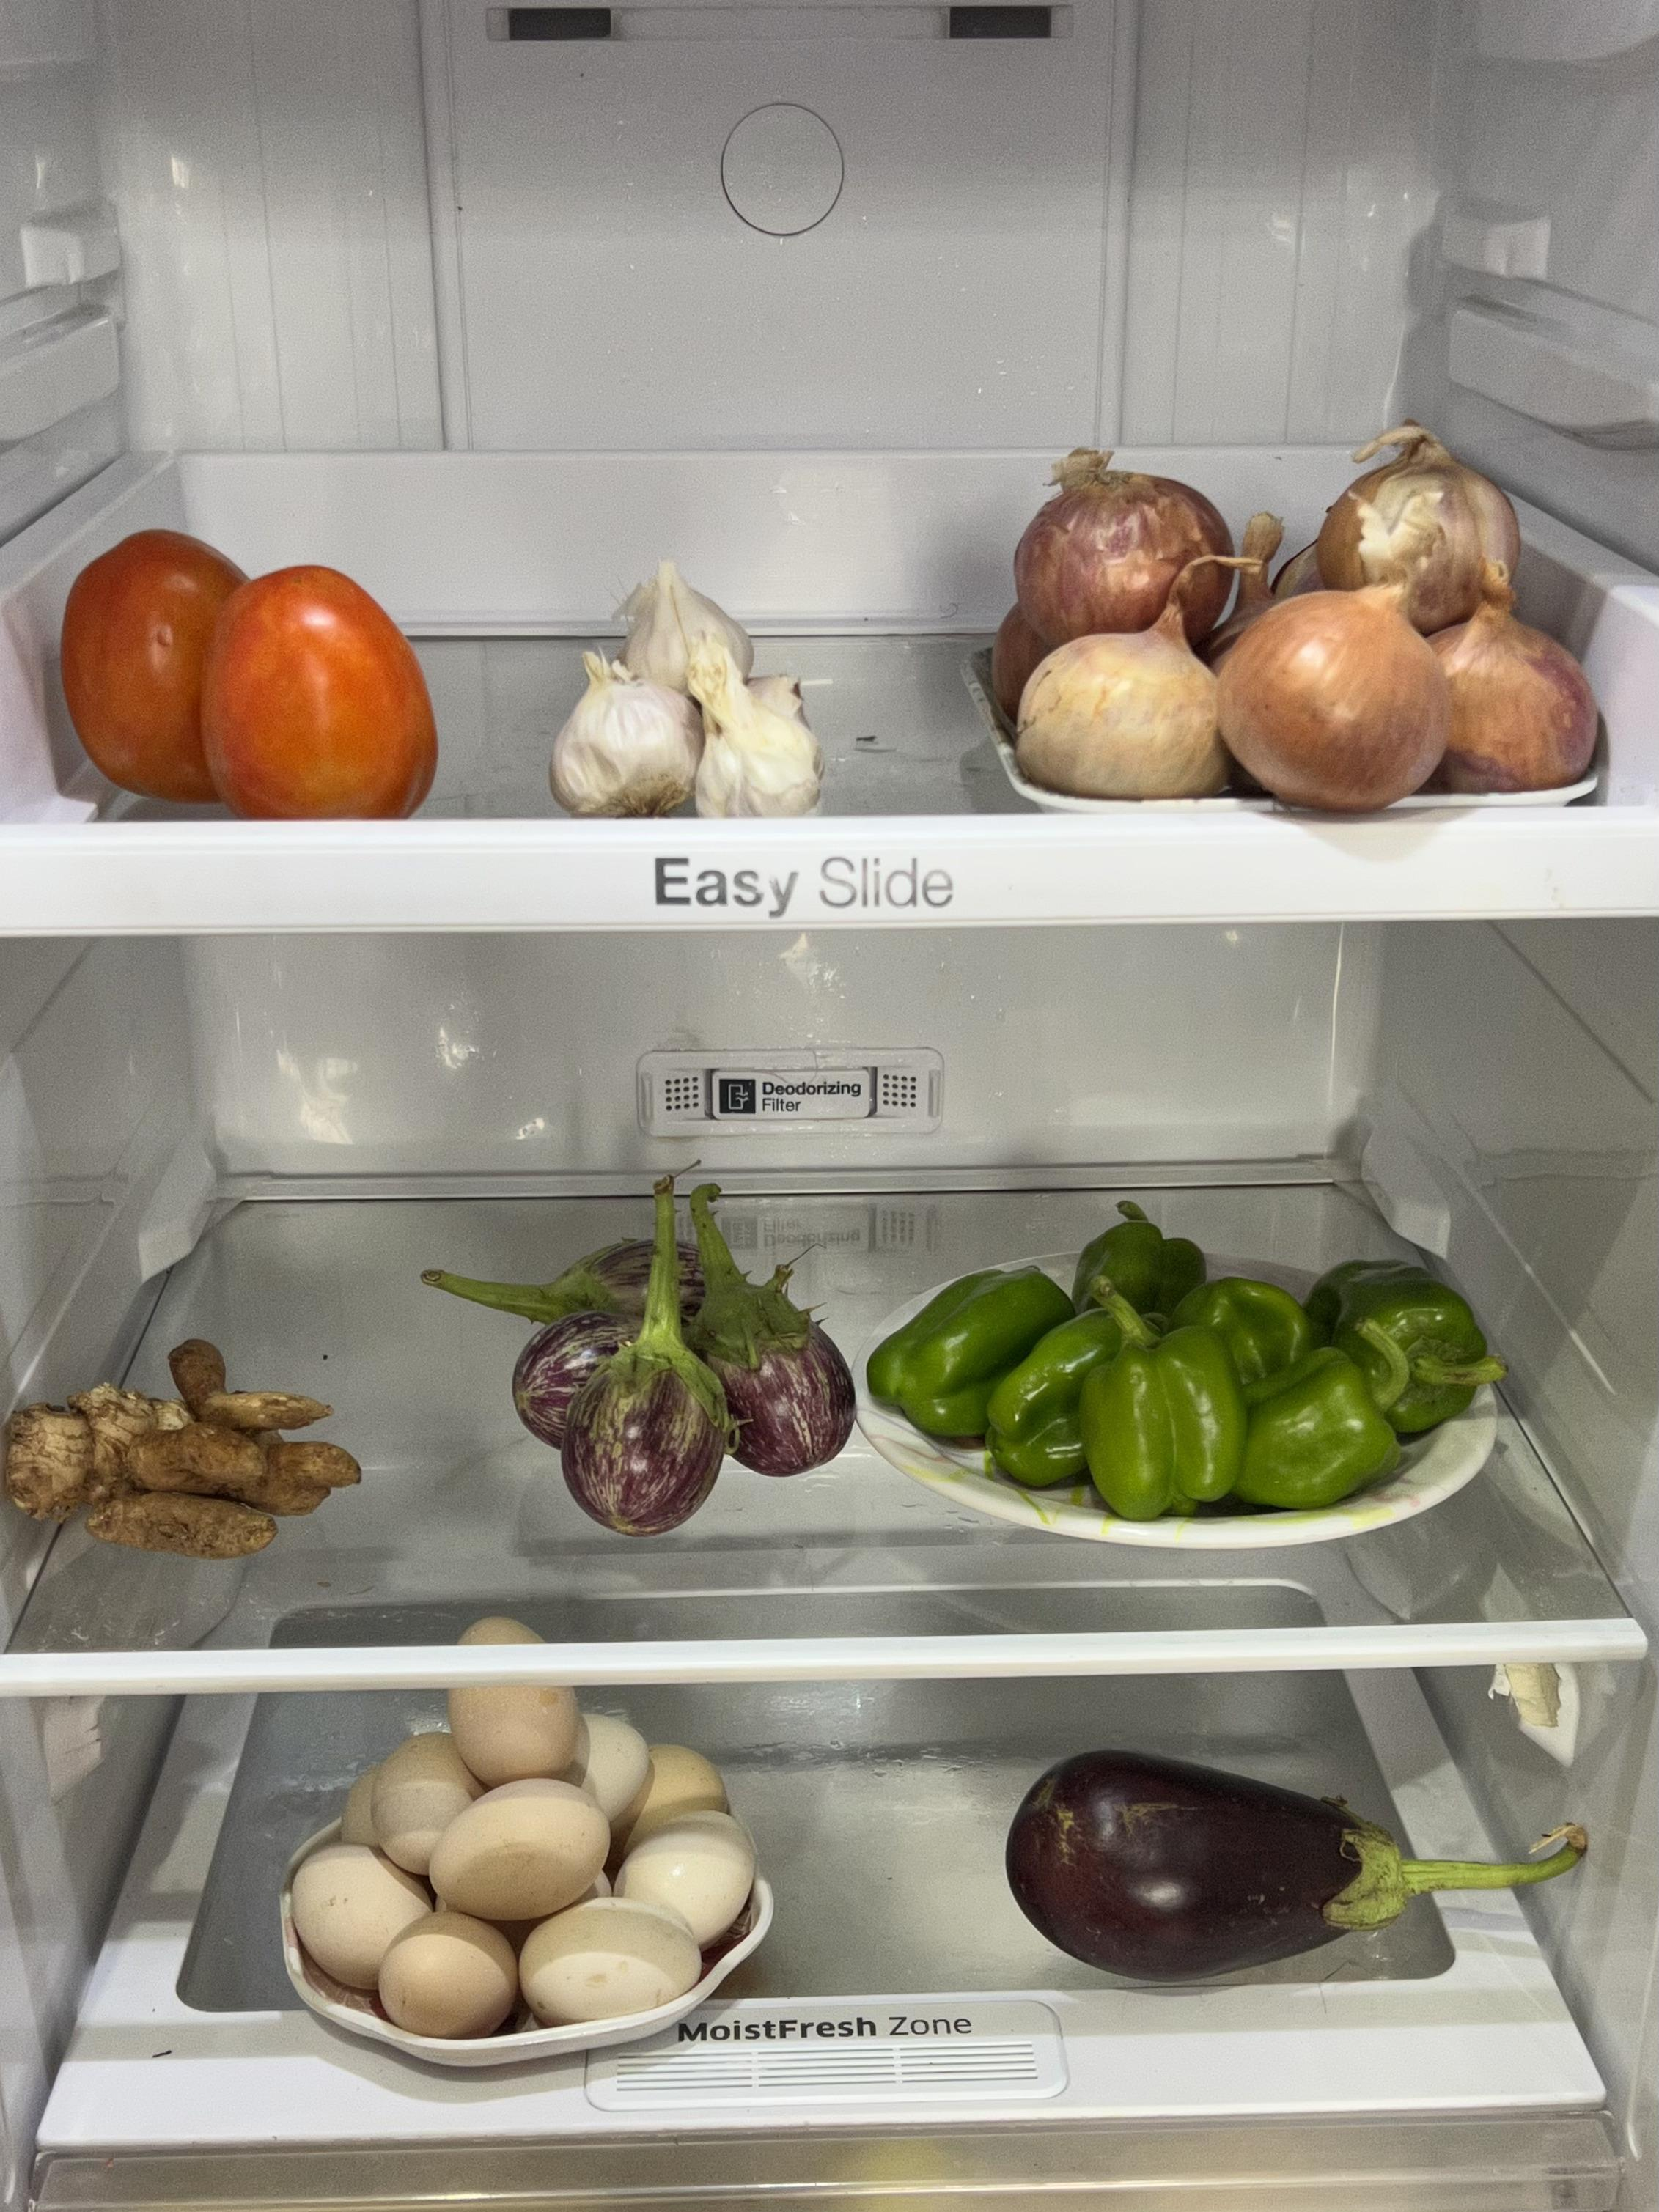bringal: (999, 1740, 1588, 1989), (500, 1216, 857, 1545)
capsicum: (875, 1207, 1535, 1521)
egg: (282, 1679, 760, 2036)
garlic: (551, 556, 829, 820)
ginger: (2, 1318, 364, 1564)
onion: (981, 432, 1601, 808)
tomato: (52, 521, 444, 824)
